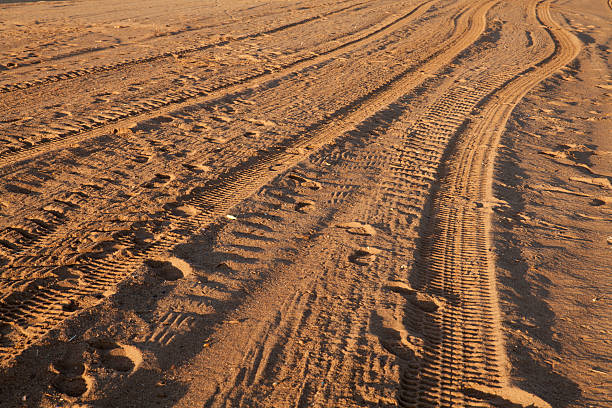vehicle_track: (0, 1, 495, 364), (398, 1, 579, 406), (0, 0, 433, 167), (0, 2, 362, 92), (0, 43, 127, 71)
